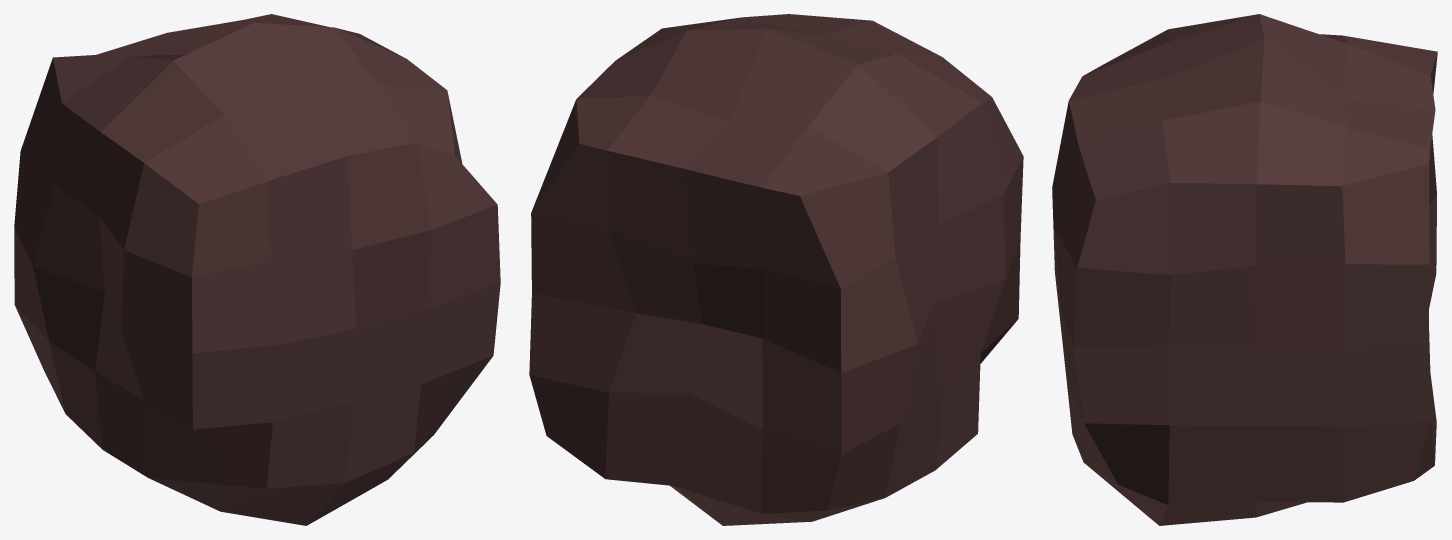
File: meteor.glb
3 views of the same model, side by side, from view 1: azimuth 30°, elevation 25°; view 2: azimuth 150°, elevation 25°; view 3: azimuth 270°, elevation 25° (orthographic). The views are drawn at different scales.
Visible parts, largest first — view 1: Cube; view 2: Cube; view 3: Cube.
Part boxes in pixels (x1,y1,x2,y2): Cube: [14, 14, 500, 525]; Cube: [529, 14, 1023, 525]; Cube: [1052, 14, 1437, 525].
Size of the model in its own units: 2.35 by 3 by 2.24.
